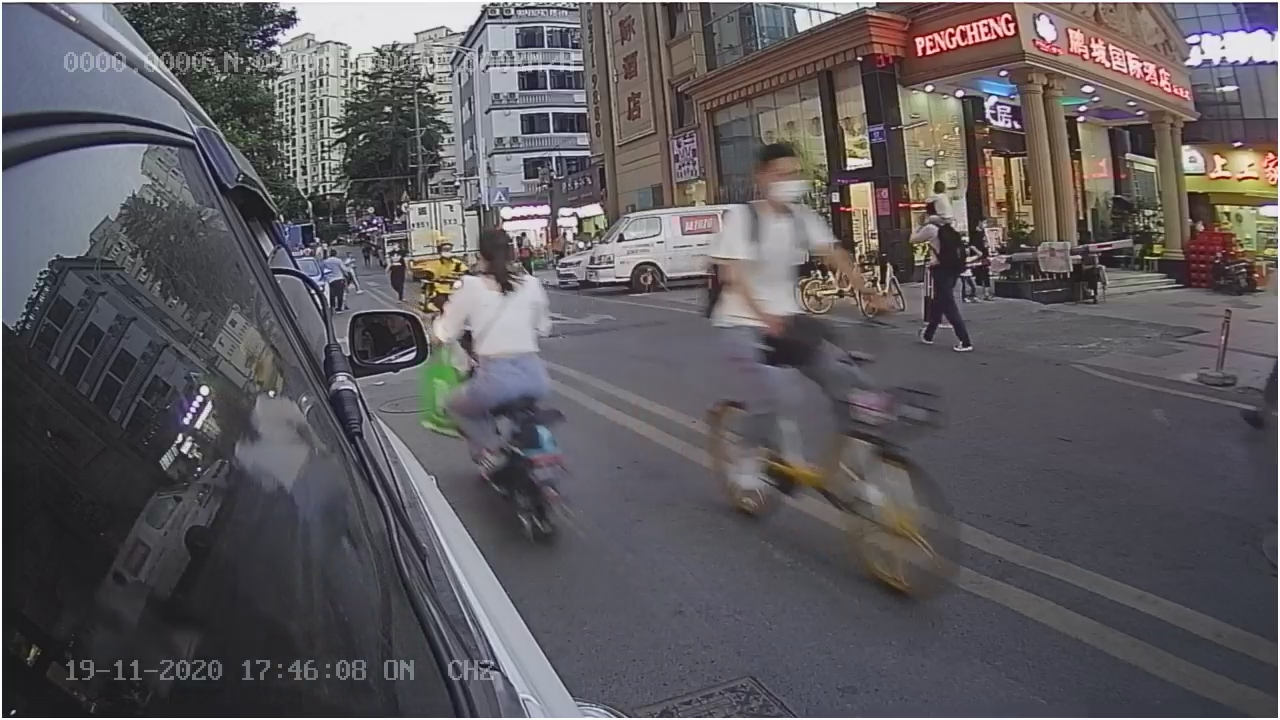person: (705, 146, 855, 359), (444, 229, 557, 411)
